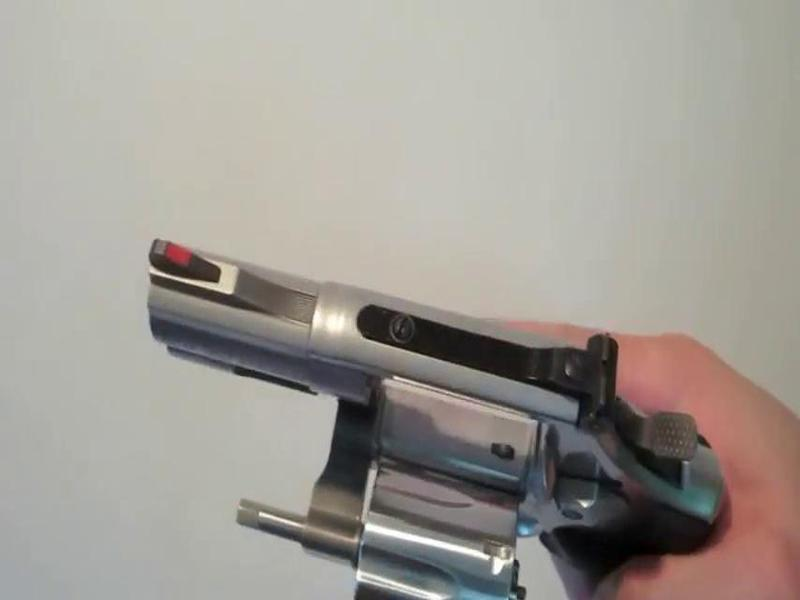Revolver: (99, 220, 737, 592)
